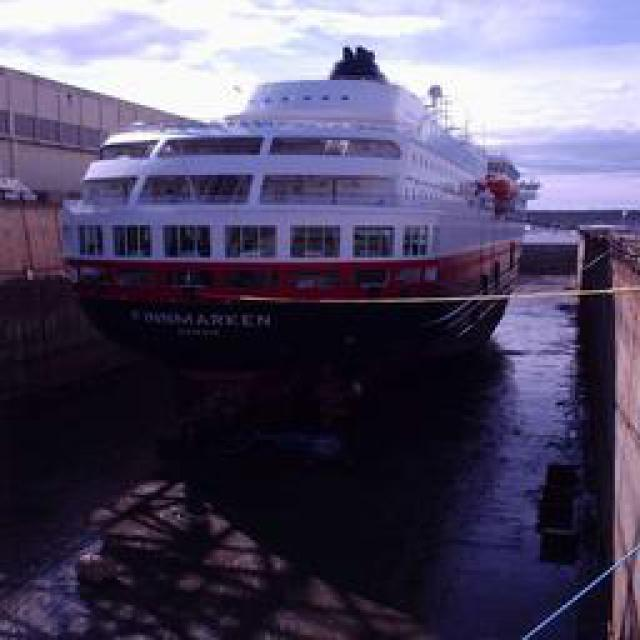Ship: (59, 51, 534, 376)
